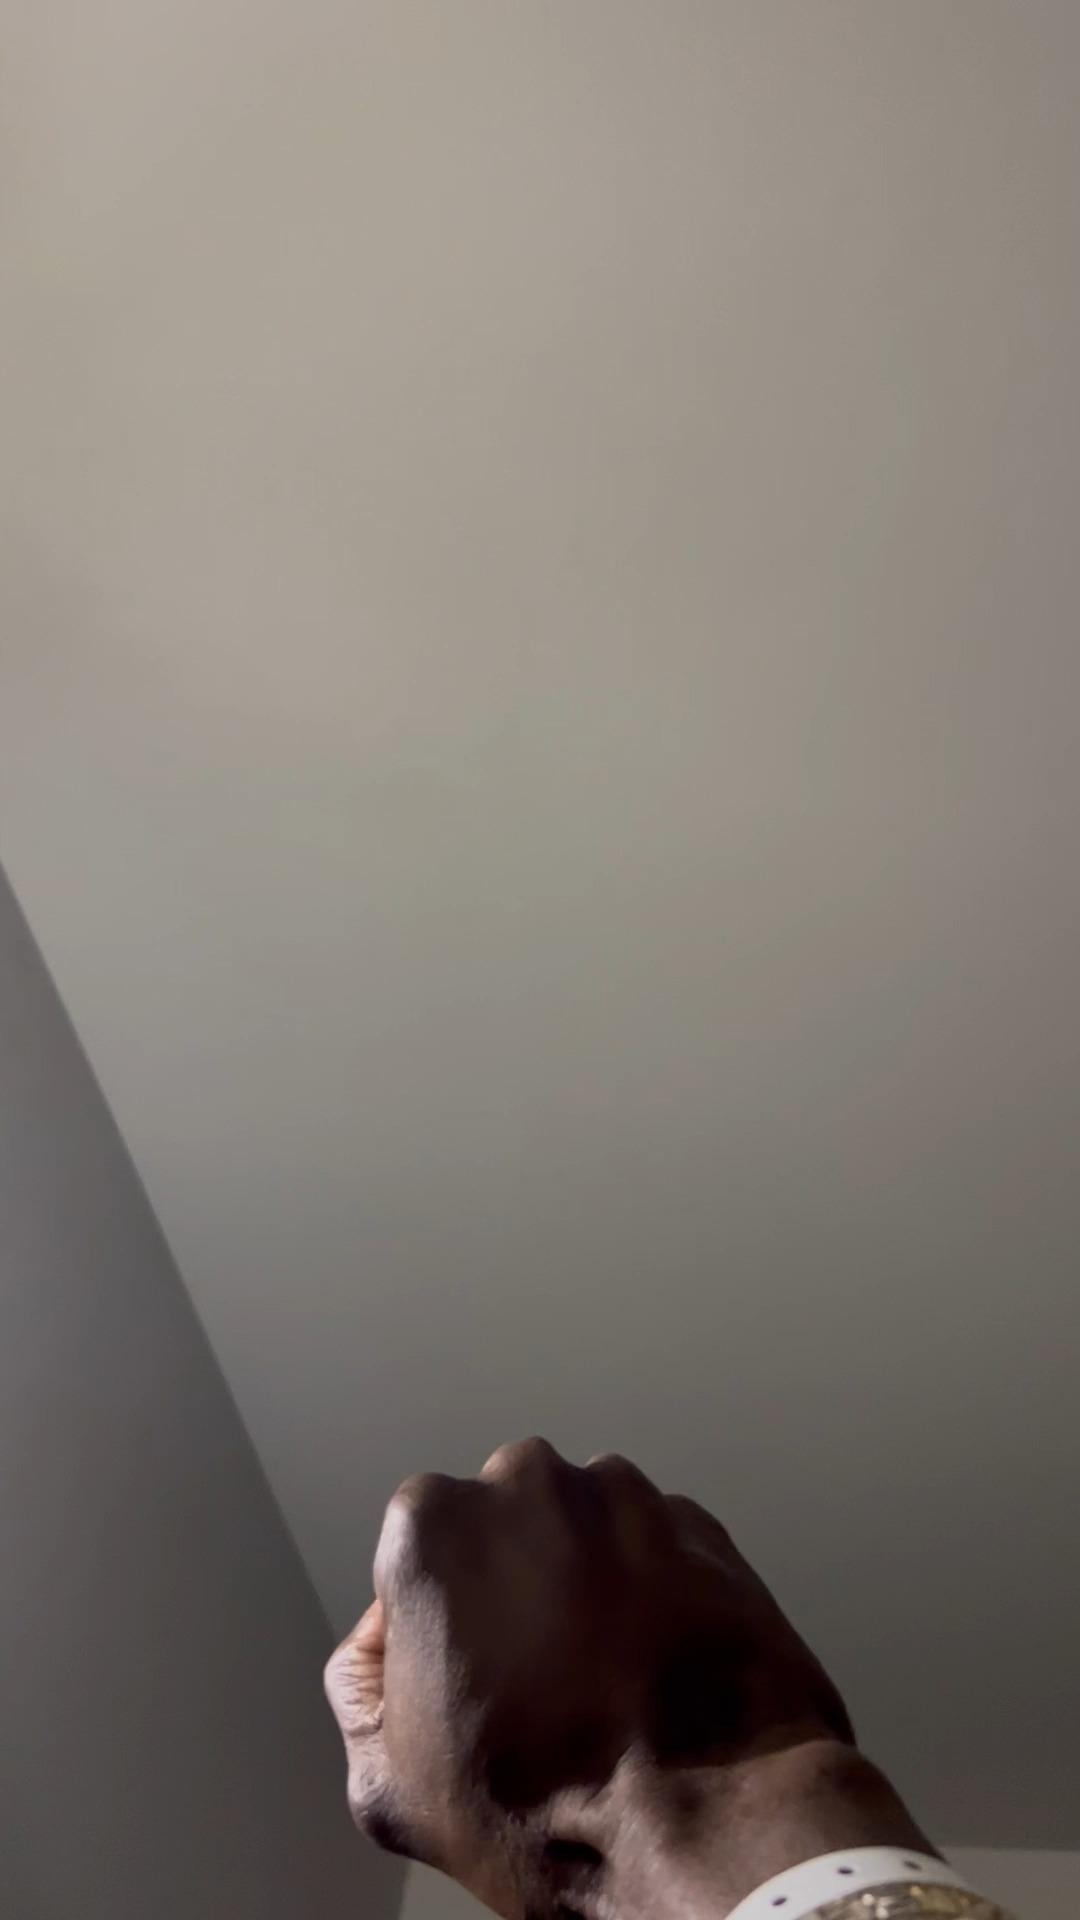Rock: (327, 1433, 881, 1917)
